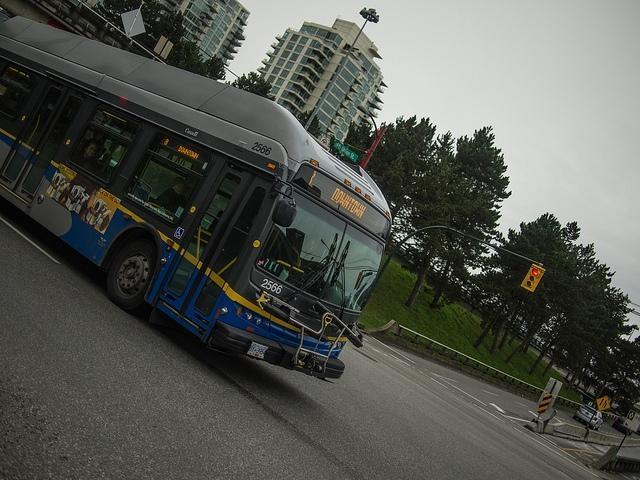bus: (1, 17, 397, 383)
car: (575, 402, 604, 430), (612, 416, 632, 436)
